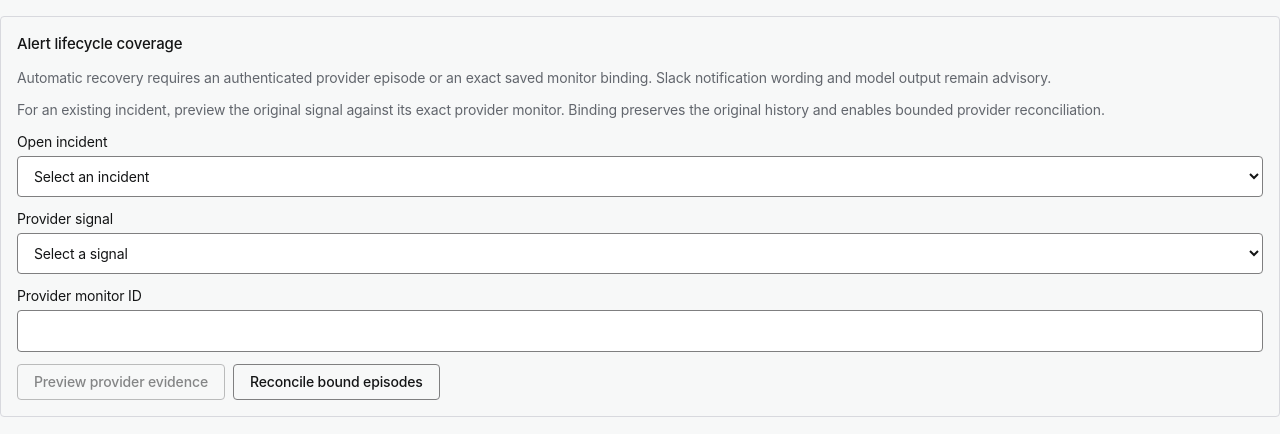
a preview that returns after its monitor changed is not shown
Select "Checkout timeout (sev2)" in the dropdown labelled "Open incident" at (640, 176), box [17,156,1263,196]
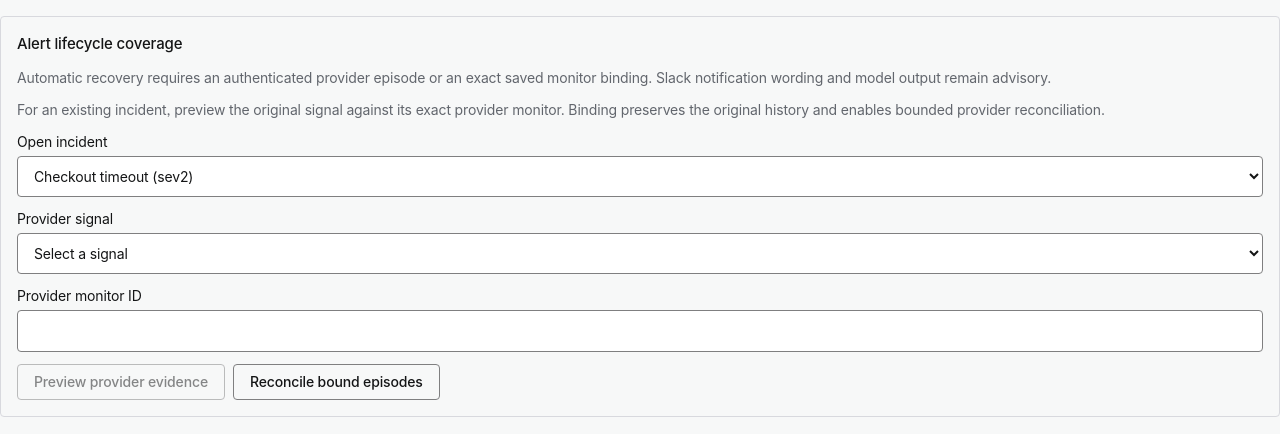
Select "Notification: Checkout timed out (unknown)" in the dropdown labelled "Provider signal" at (640, 253), box [17,232,1263,274]
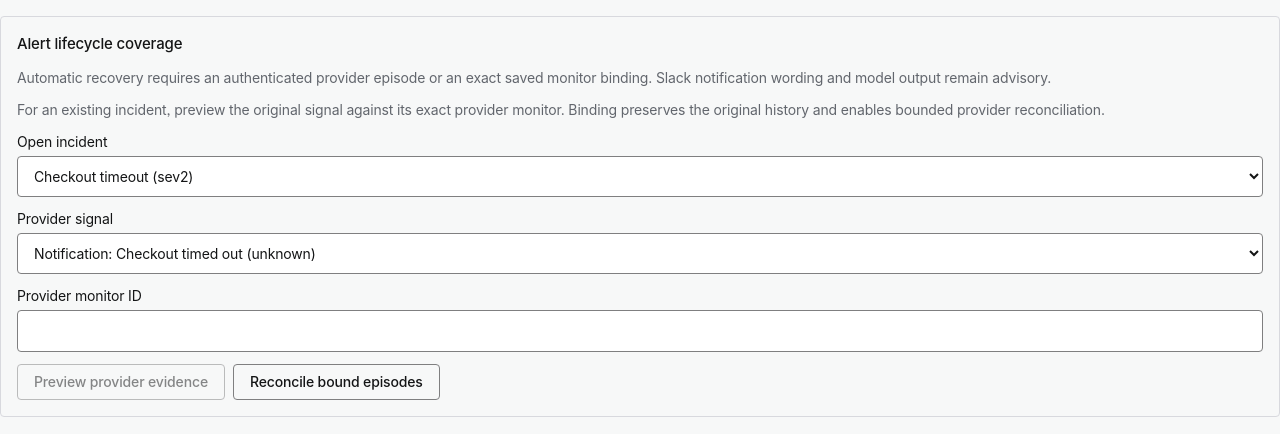
Type "73" into the field labelled "Provider monitor ID" at (640, 330), box [17,310,1263,352]
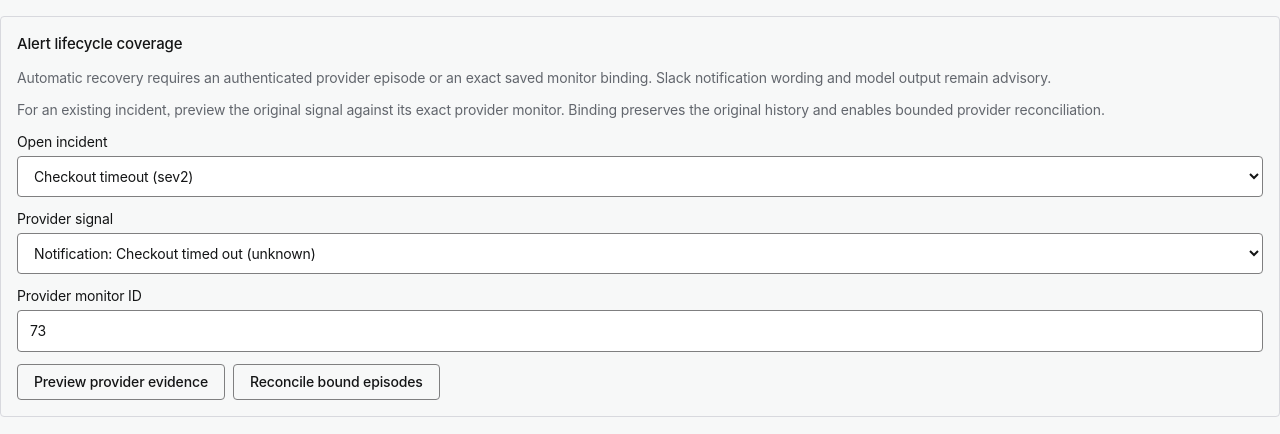
Click the button "Preview provider evidence" at (121, 382), box [17,364,225,400]
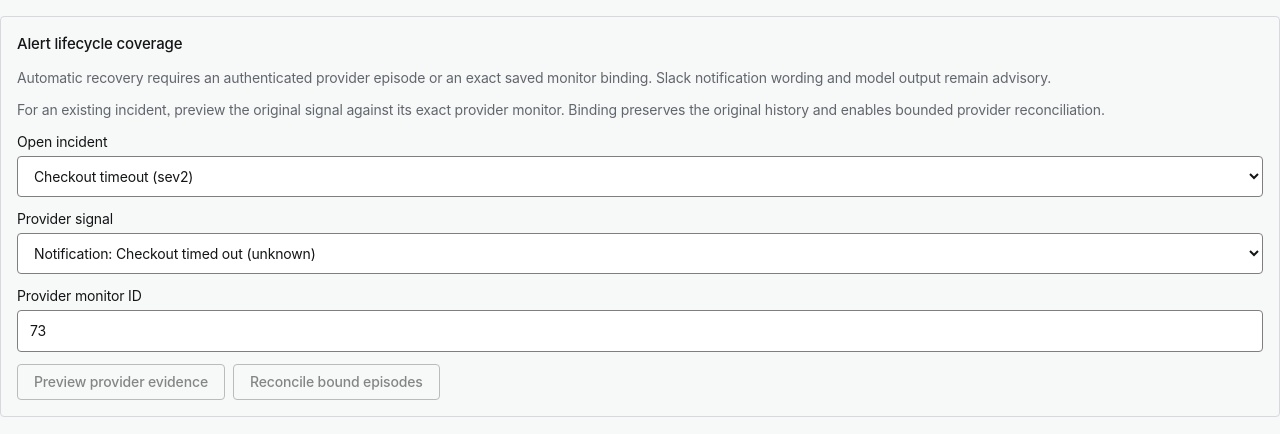
Replace the text in the field labelled "Provider monitor ID" with "74" at (640, 330), box [17,310,1263,352]
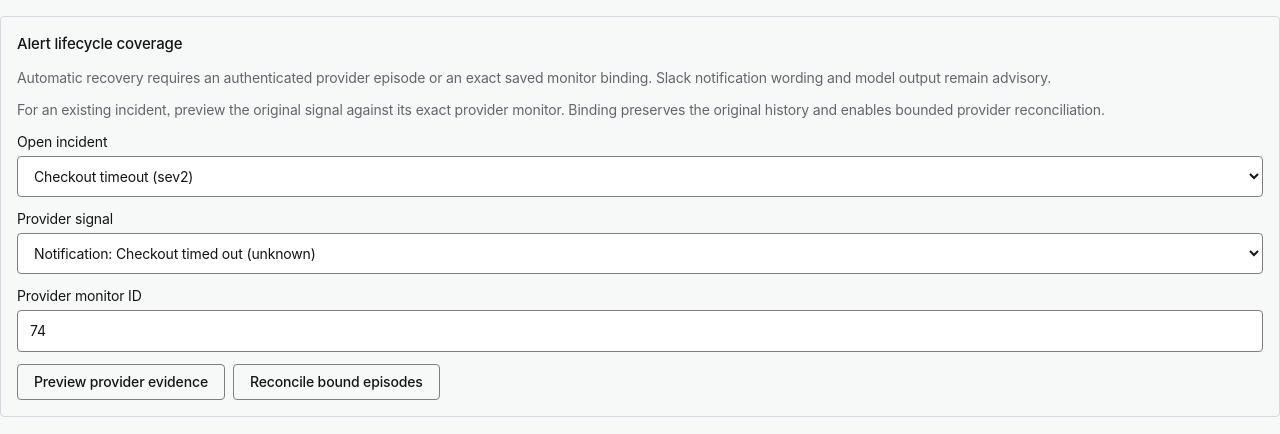
Expected: the button "Reconcile bound episodes" is enabled, [233,364,440,400]
